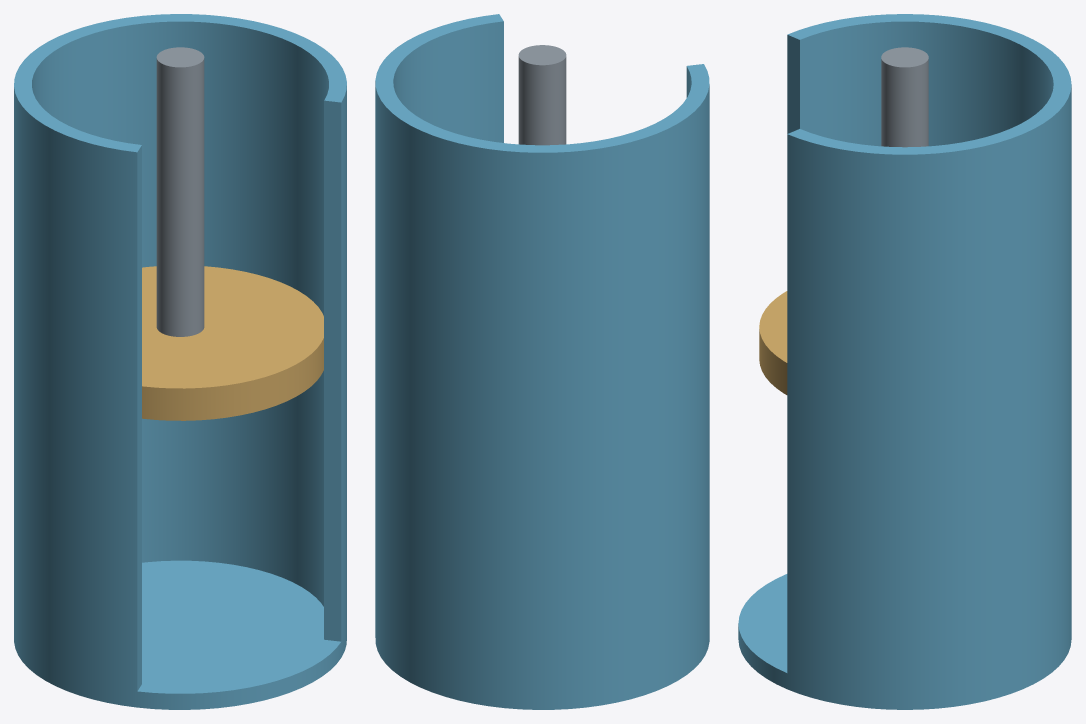
Rendered from piston-cylinder.glb.
3 views of the same model, side by side, from view 1: azimuth 30°, elevation 25°; view 2: azimuth 150°, elevation 25°; view 3: azimuth 270°, elevation 25° (orthographic).
Visible parts, largest first — view 1: cylinder-wall-cutaway, cylinder-base, piston-disc, piston-rod; view 2: cylinder-wall-cutaway, cylinder-base, piston-rod; view 3: cylinder-wall-cutaway, cylinder-base, piston-rod, piston-disc.
Part boxes in pixels (x1=…): cylinder-wall-cutaway: x1=14, y1=14, x2=346, y2=691; cylinder-base: x1=14, y1=560, x2=346, y2=709; piston-disc: x1=142, y1=266, x2=323, y2=420; piston-rod: x1=156, y1=47, x2=204, y2=336; cylinder-wall-cutaway: x1=375, y1=14, x2=709, y2=693; cylinder-base: x1=375, y1=622, x2=709, y2=709; piston-rod: x1=518, y1=45, x2=566, y2=145; cylinder-wall-cutaway: x1=787, y1=14, x2=1071, y2=693; cylinder-base: x1=738, y1=574, x2=1071, y2=709; piston-rod: x1=881, y1=47, x2=928, y2=147; piston-disc: x1=759, y1=291, x2=787, y2=394.
Size of the model in its own units: 0.056 by 0.108 by 0.056.
